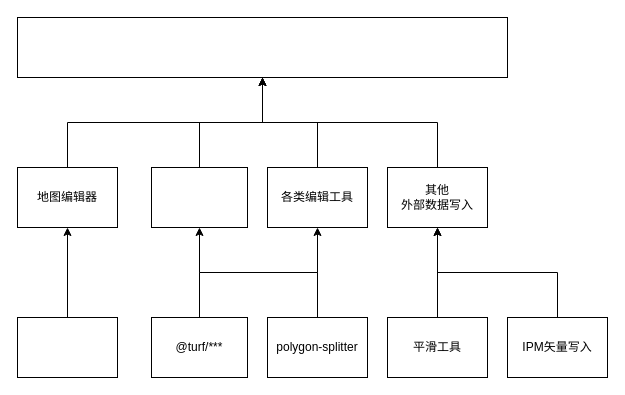
Image size: 625x395. Some labels were removed from this diagram. The box of each missing label's shape, as (x1, y1, x2, y2) in pixels:
Mapbox: (16, 316, 118, 378)
保存错误数据: (16, 16, 508, 78)
被动维护: (150, 166, 248, 228)
